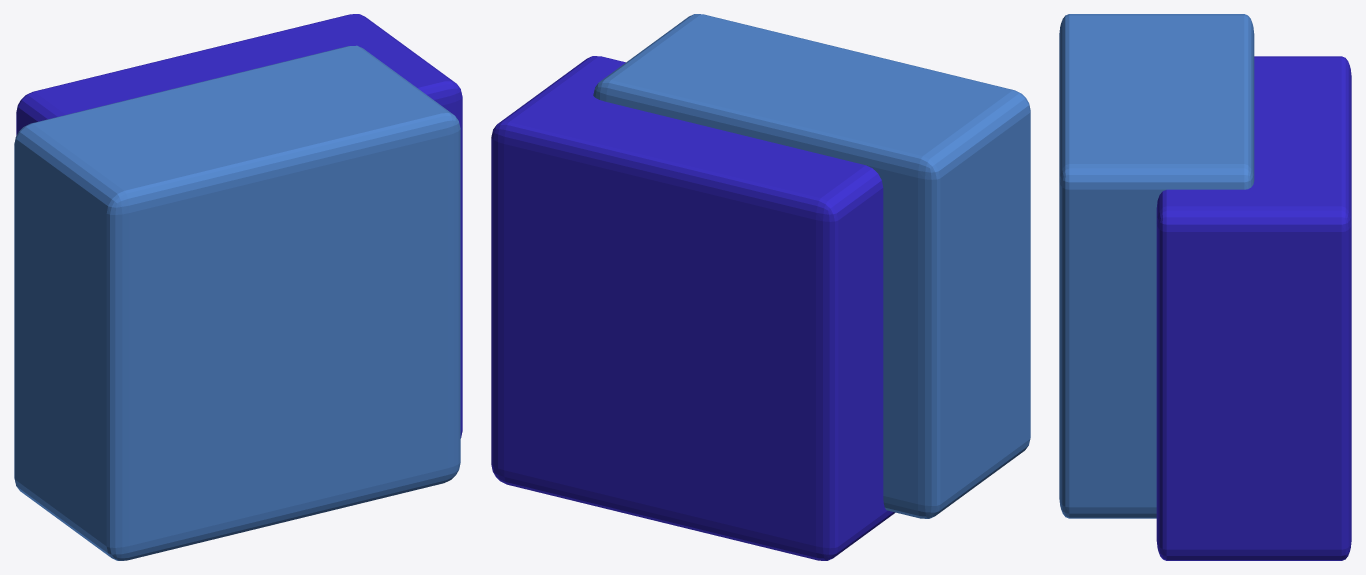
File: Sub_Highlight.dae
3 views of the same model, side by side, from view 1: azimuth 30°, elevation 25°; view 2: azimuth 150°, elevation 25°; view 3: azimuth 270°, elevation 25° (orthographic). The views are drawn at different scales.
Parts seen in each view (by area): view 1: Cube_001, Cube; view 2: Cube, Cube_001; view 3: Cube, Cube_001.
Boxes of the visible parts, x1,y1,x2,y2 form: Cube_001: [14, 45, 460, 560]; Cube: [16, 14, 462, 438]; Cube: [491, 56, 895, 560]; Cube_001: [593, 14, 1030, 518]; Cube: [1156, 56, 1351, 560]; Cube_001: [1059, 14, 1254, 518].
Size of the model in its own units: 2.3 by 1.5 by 2.1.
